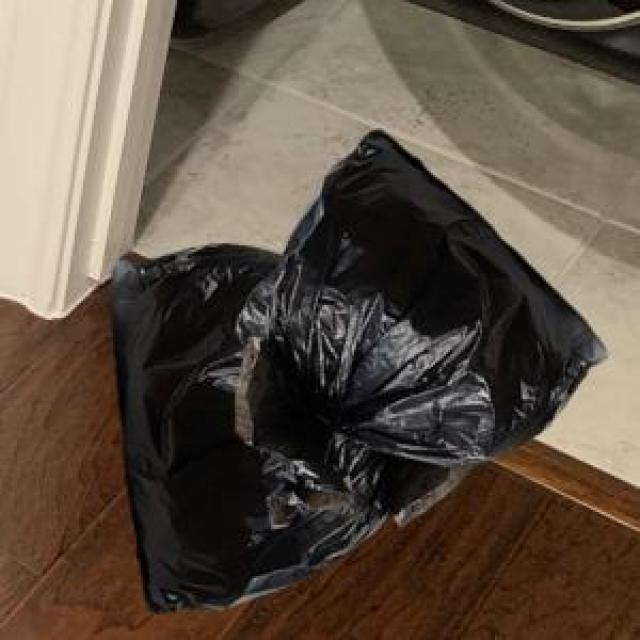waste: (115, 131, 605, 609)
